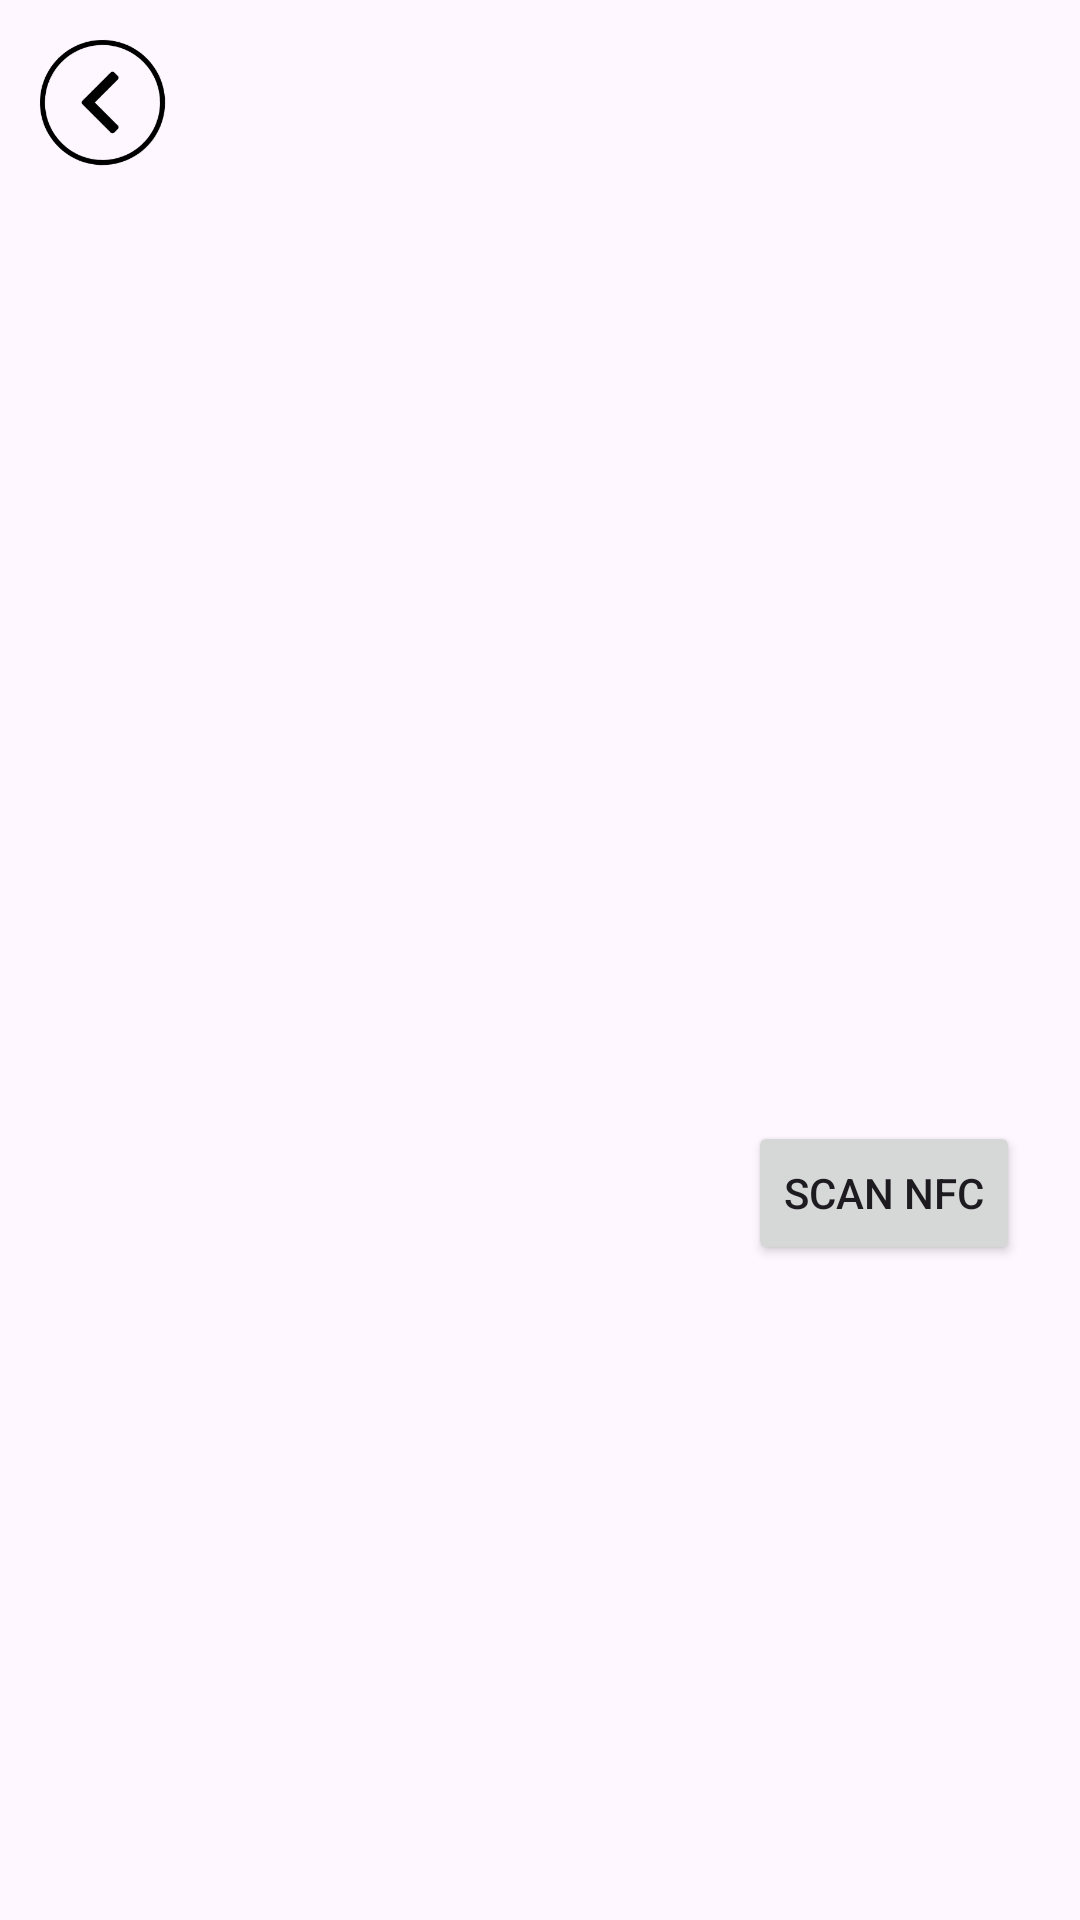

Where icons sit on this 1080 × 1920 app screen, as (x1, y1, x2, y2):
back arrow: (40, 40, 166, 166)
